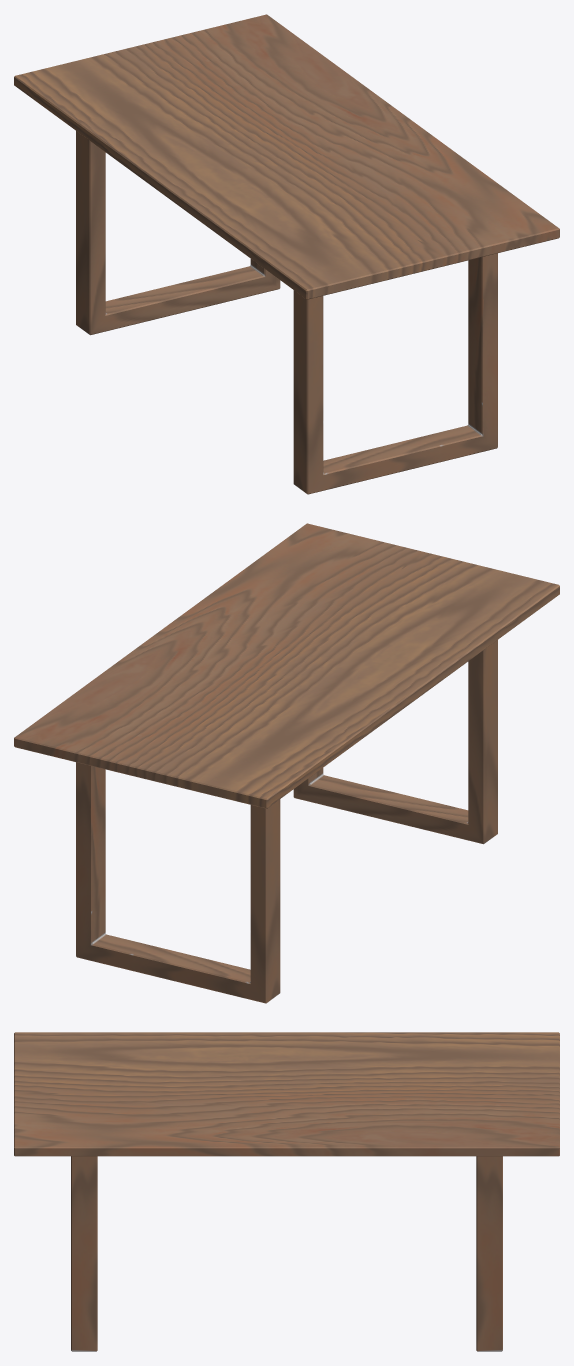
Rendered from Table1.glb.
The picture shows the model from 3 angles, top to bottom: view 1: azimuth 30°, elevation 25°; view 2: azimuth 150°, elevation 25°; view 3: azimuth 270°, elevation 25°; orthographic projection. The views are drawn at different scales.
Parts seen in each view (by area): view 1: Cube.032; view 2: Cube.032; view 3: Cube.032.
Part boxes in pixels (x1=…): Cube.032: x1=14, y1=14, x2=559, y2=494; Cube.032: x1=14, y1=523, x2=559, y2=1003; Cube.032: x1=14, y1=1032, x2=559, y2=1351.
Size of the model in its own units: 0.8661 by 0.766 by 1.73.
1 material, 1 textured.
